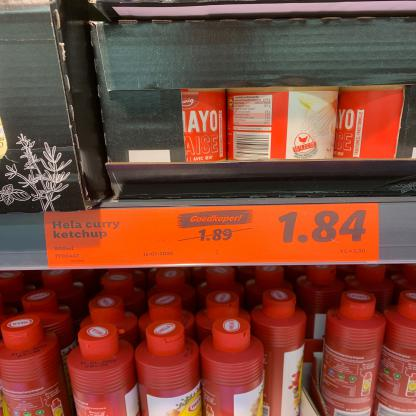prtg: (45, 204, 380, 270)
